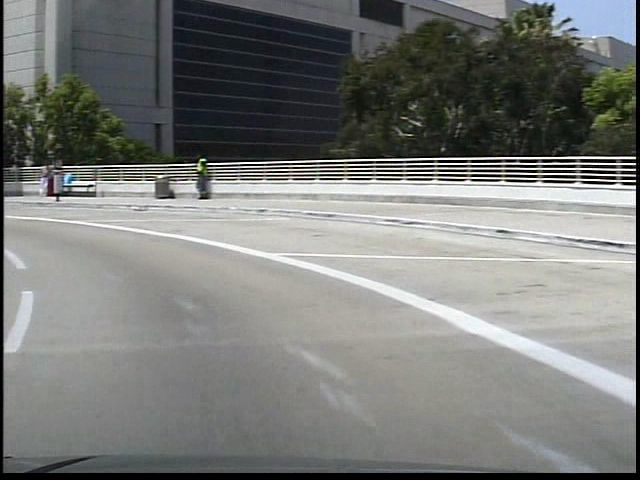person: (187, 150, 208, 204)
